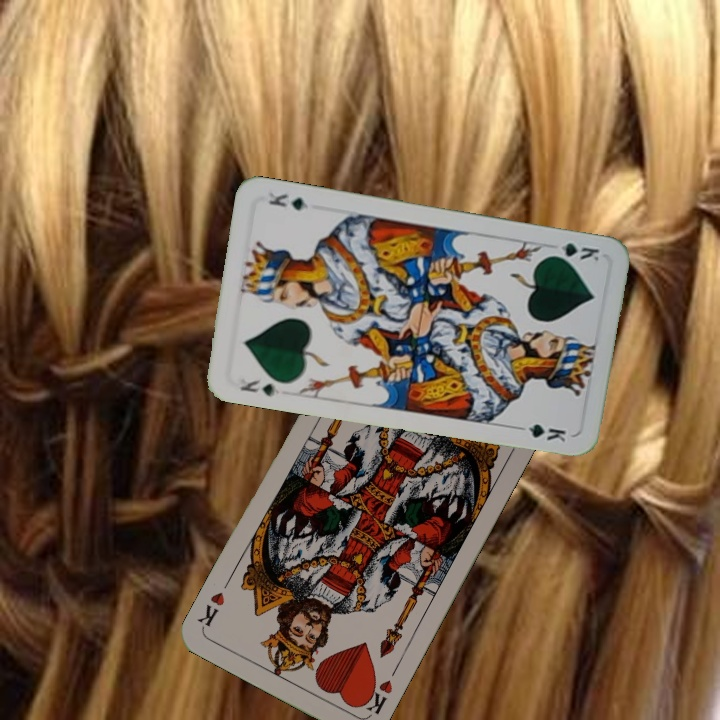GK: (544, 239, 602, 264), (236, 375, 282, 399)
HK: (357, 674, 396, 719)
